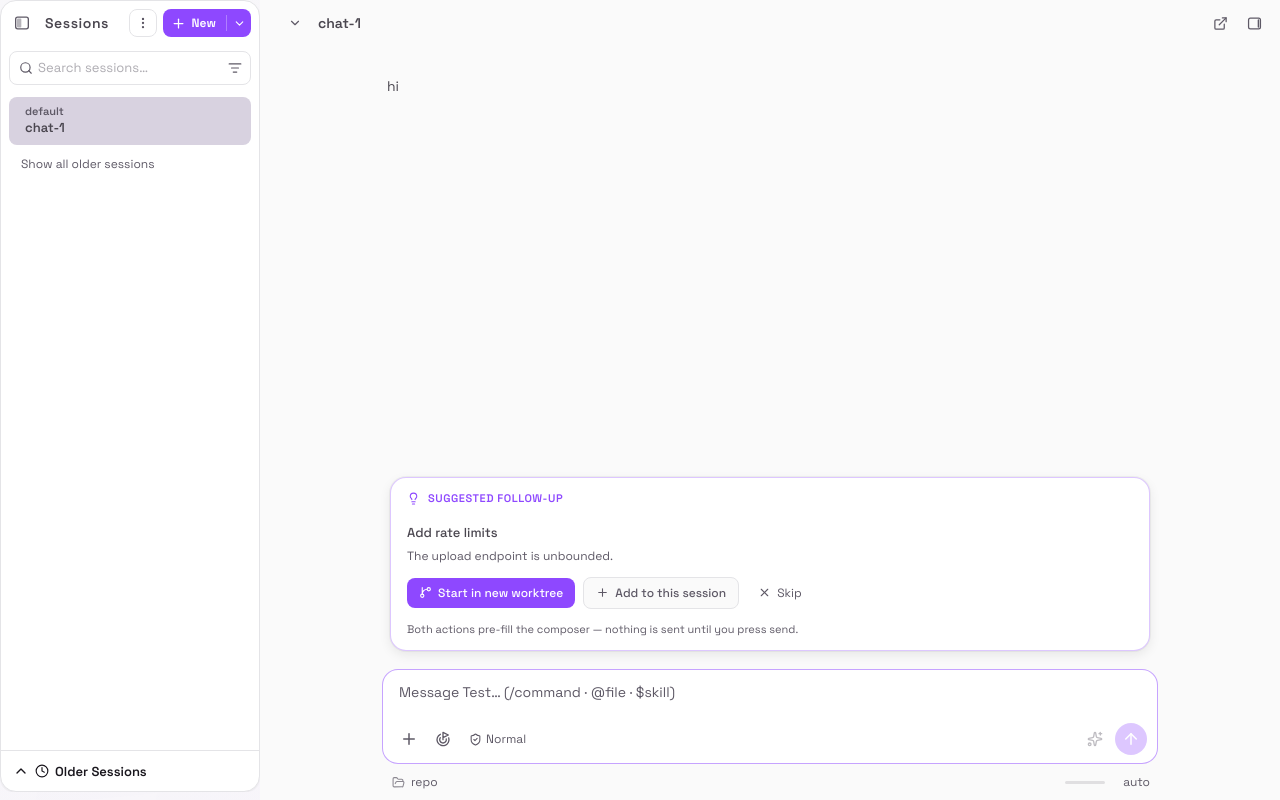
Test: ChatPage follow-up worktree orchestration › creates the worktree, scopes the new session, then hands the prompt to it
The width and height of the screenshot is (1280, 800).
Check: the text "Add rate limits" is shown, box [407,524,498,541]
Click the button "Start in new worktree" at (491, 593), box [407,578,575,608]
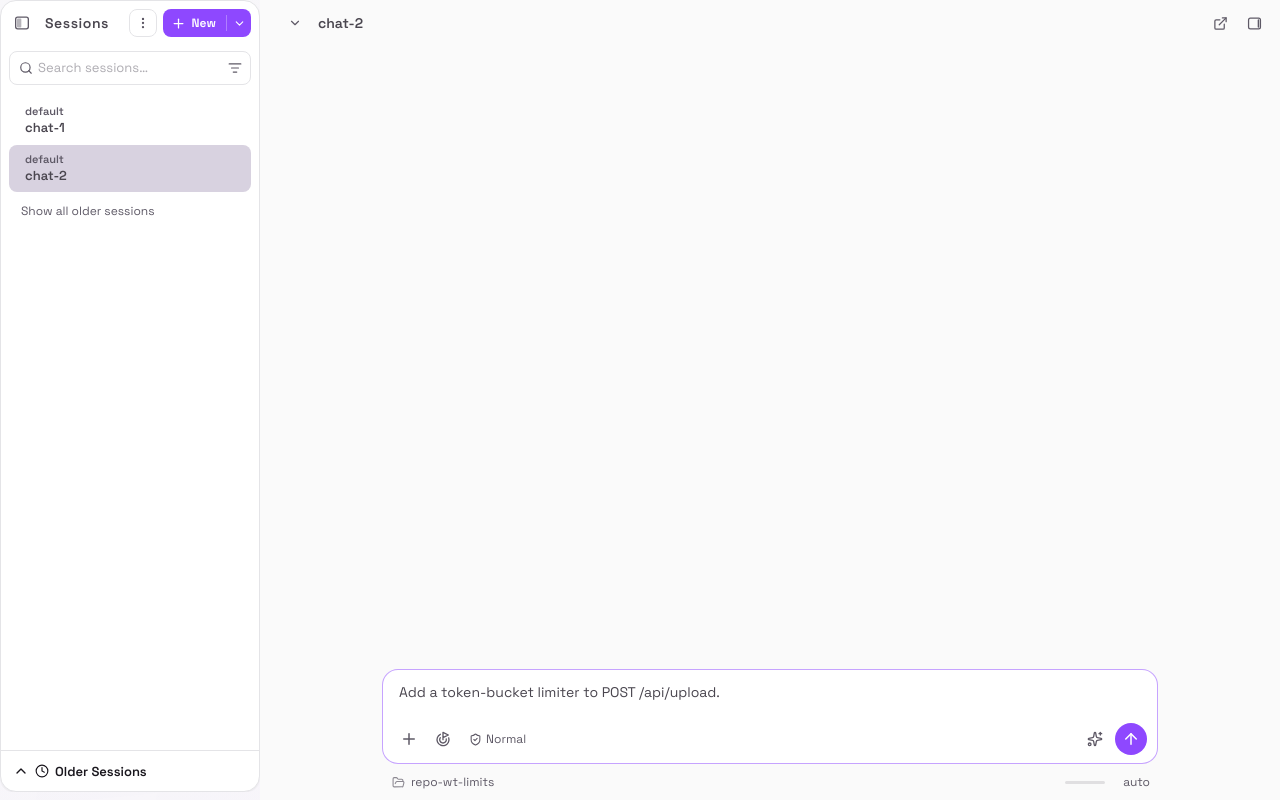
Check: the 2nd text "chat-2" is shown, box [25,166,67,184]
Check: the text box named "Message input" holds "Add a token-bucket limiter to POST /api/upload.", box [383,670,1157,714]
